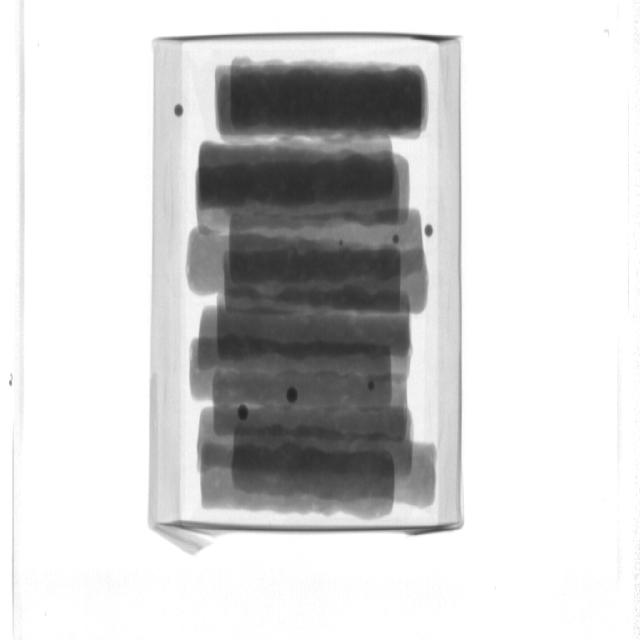ym: (287, 387, 298, 404), (240, 406, 251, 422), (175, 104, 185, 117), (426, 224, 435, 235), (393, 236, 400, 245), (368, 382, 375, 391), (341, 241, 346, 246)
